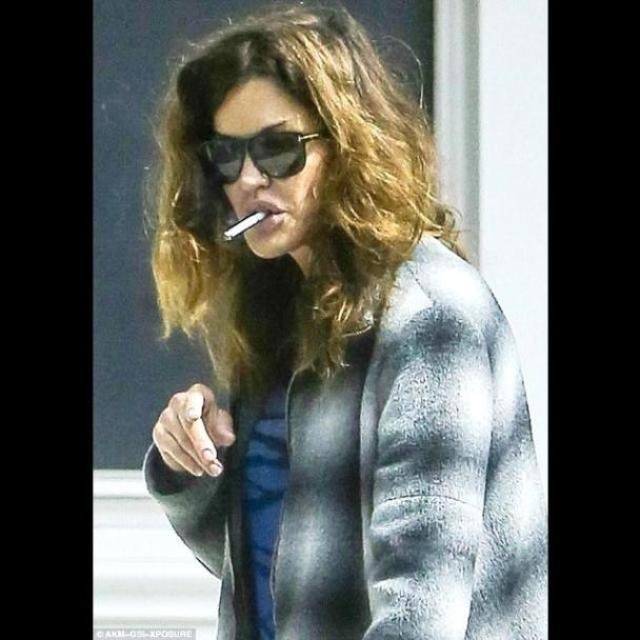rokok: (212, 201, 282, 245)
